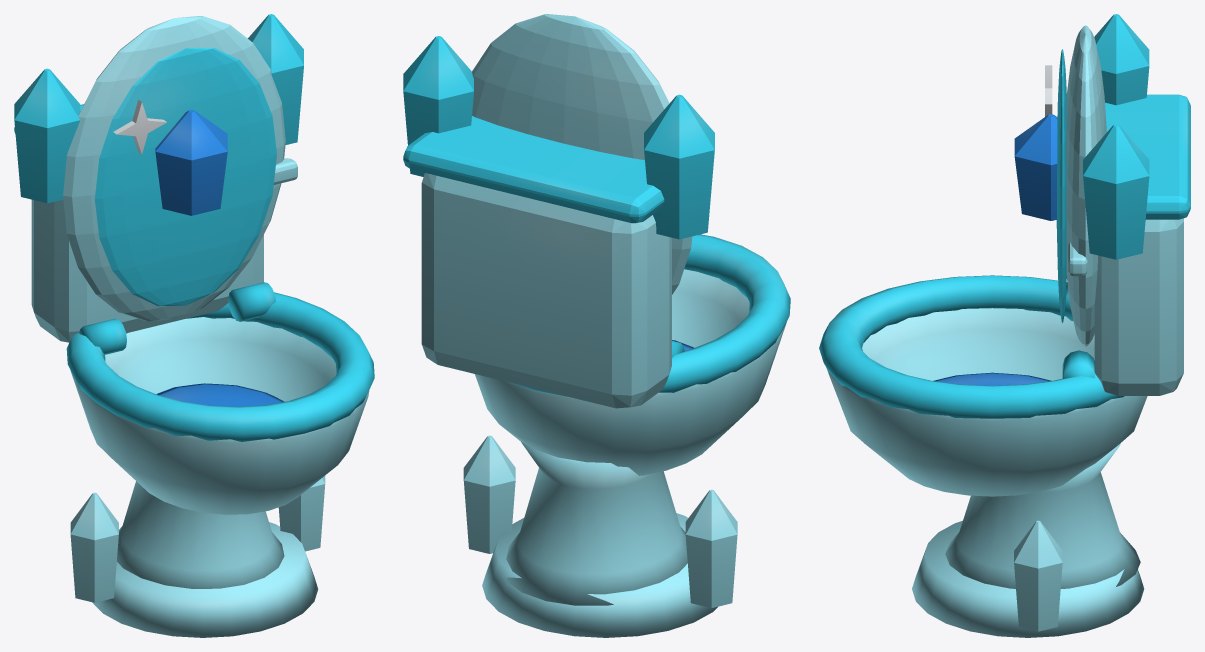
The model's file is DiamondToilet.fbx.
3 views of the same model, side by side, from view 1: azimuth 30°, elevation 25°; view 2: azimuth 150°, elevation 25°; view 3: azimuth 270°, elevation 25° (orthographic). The views are drawn at different scales.
Visible parts, largest first — view 1: DiamondToilet; view 2: DiamondToilet; view 3: DiamondToilet.
Part boxes in pixels (bbox=[...]): DiamondToilet: bbox=[14, 14, 374, 637]; DiamondToilet: bbox=[403, 14, 790, 637]; DiamondToilet: bbox=[819, 14, 1190, 637].
Size of the model in its own units: 2.64 by 4.79 by 2.91.
Materials: 1 (1 with a texture image).
